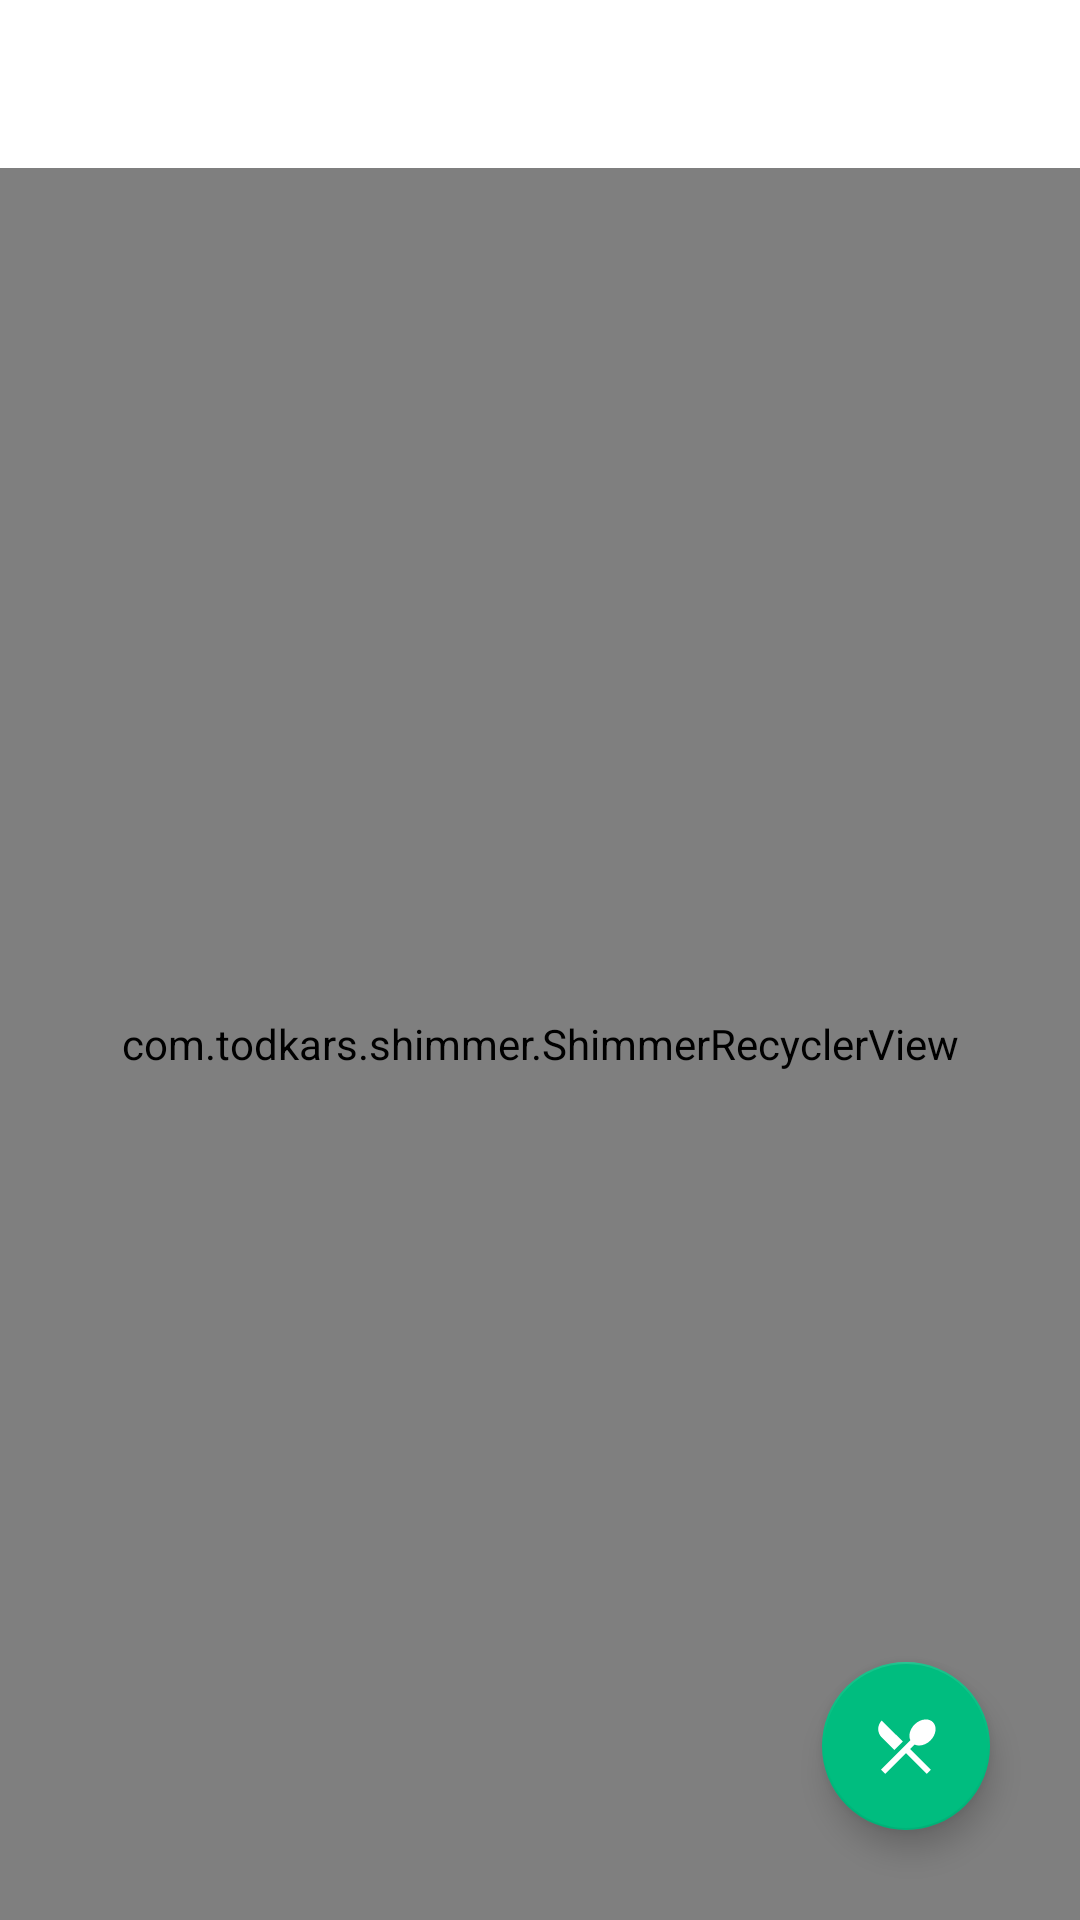

Icon click points for this 1080×1920 phone screenshot, format point (x, y):
restaurant menu: point (906, 1746)
